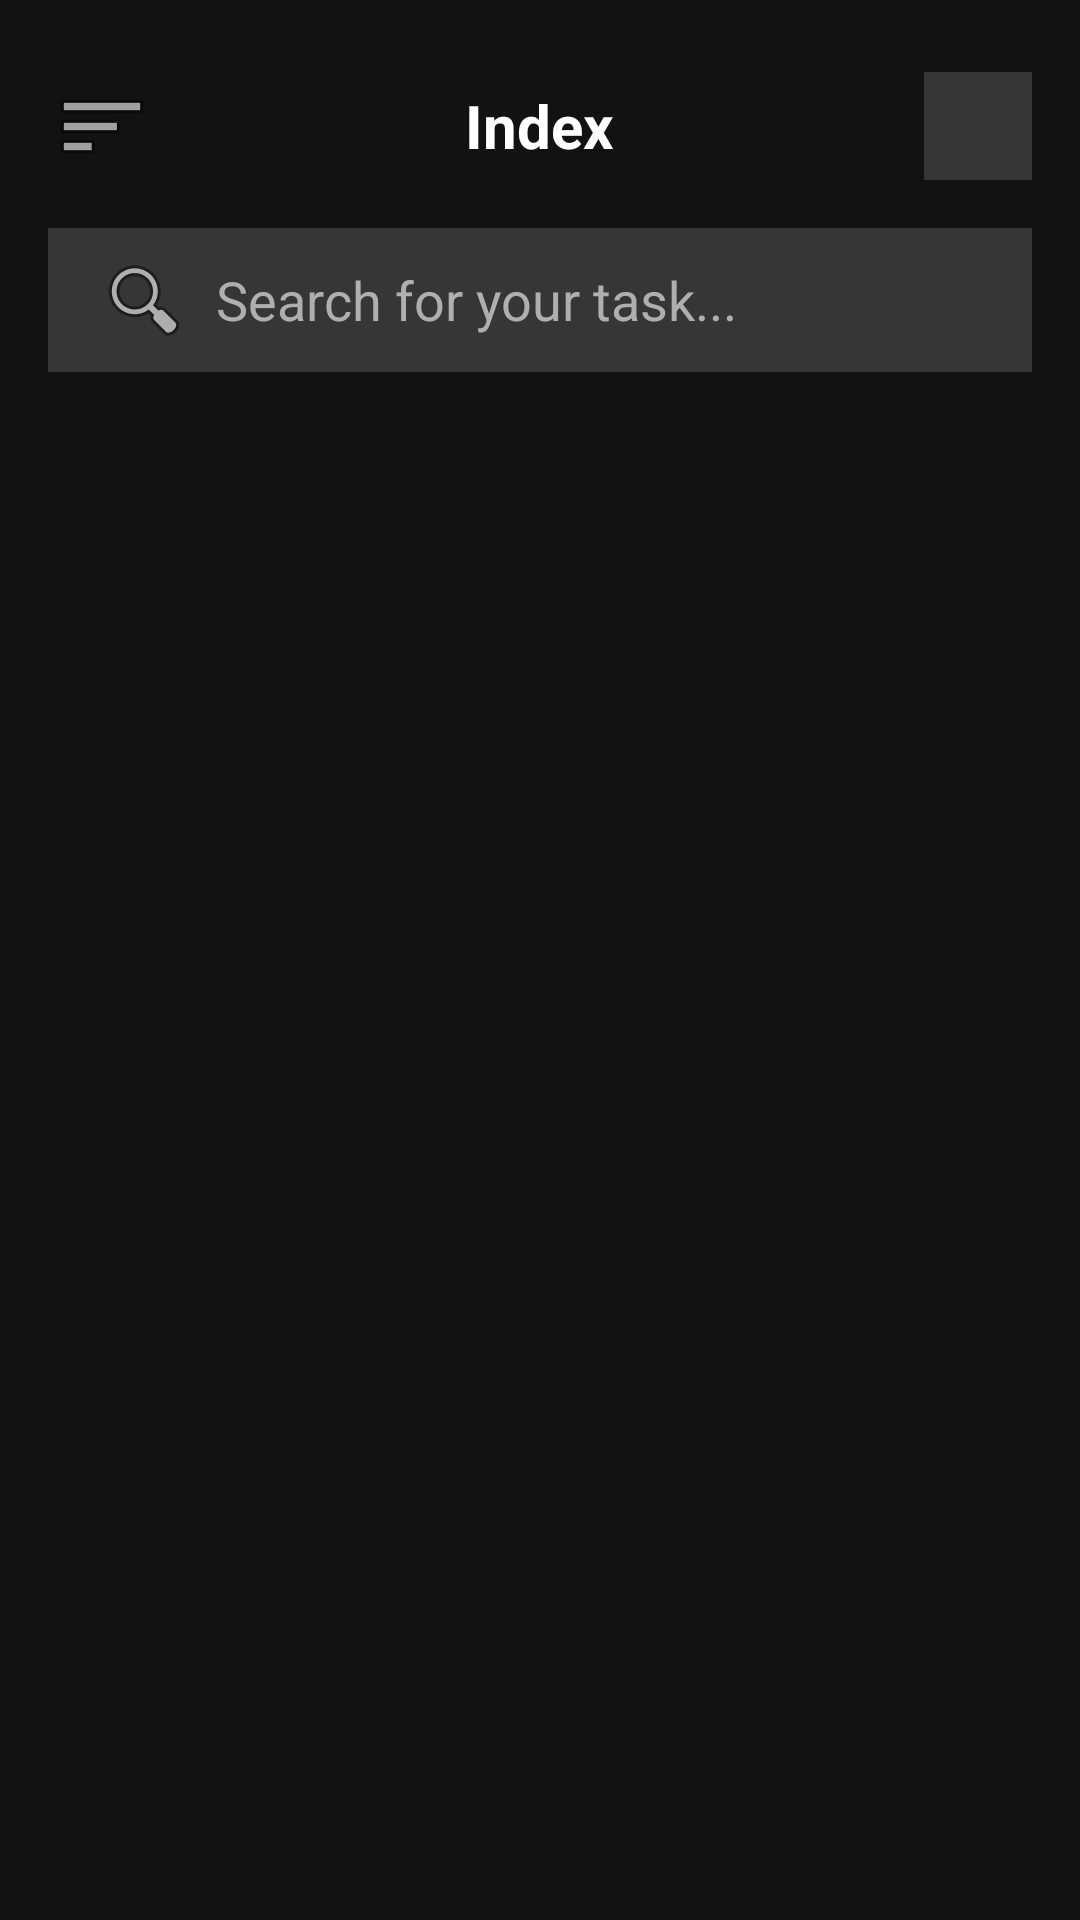

Icon click points for this 1080×1920 phone screenshot, format point (x, y):
Menu: point (102, 126)
